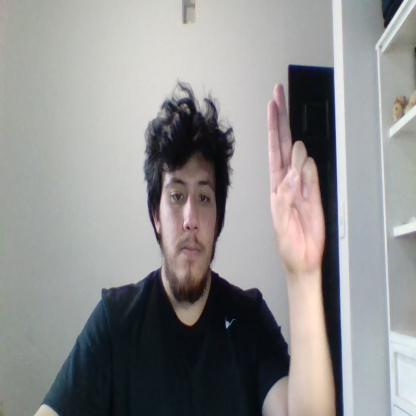U: (268, 82, 325, 271)
